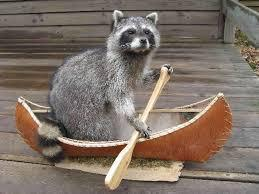raccoon: (19, 5, 176, 166)
